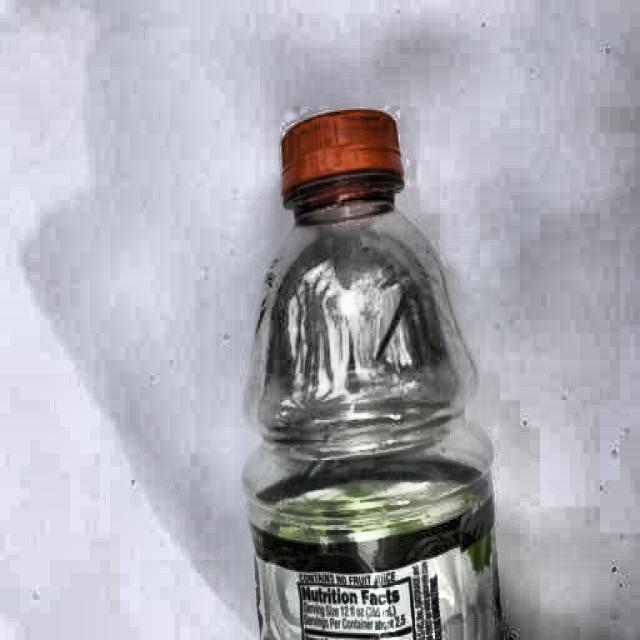plastic: (240, 108, 510, 640)
